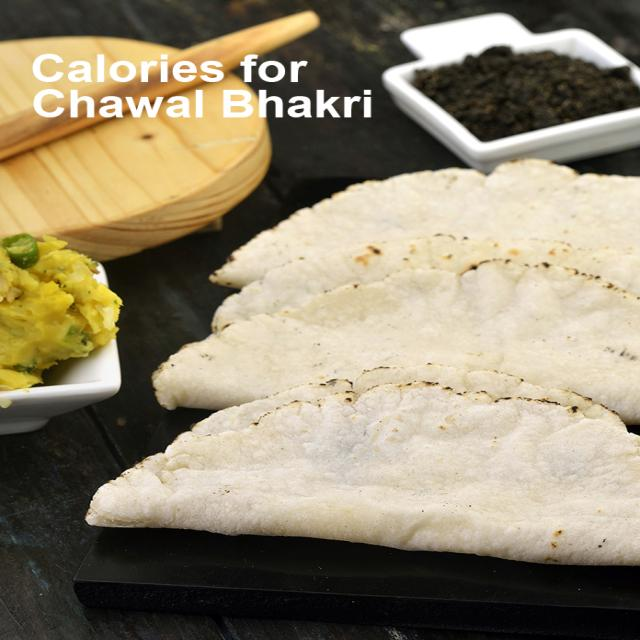RICE BHAKRI: (88, 386, 639, 558), (145, 266, 639, 420), (203, 159, 639, 333)
